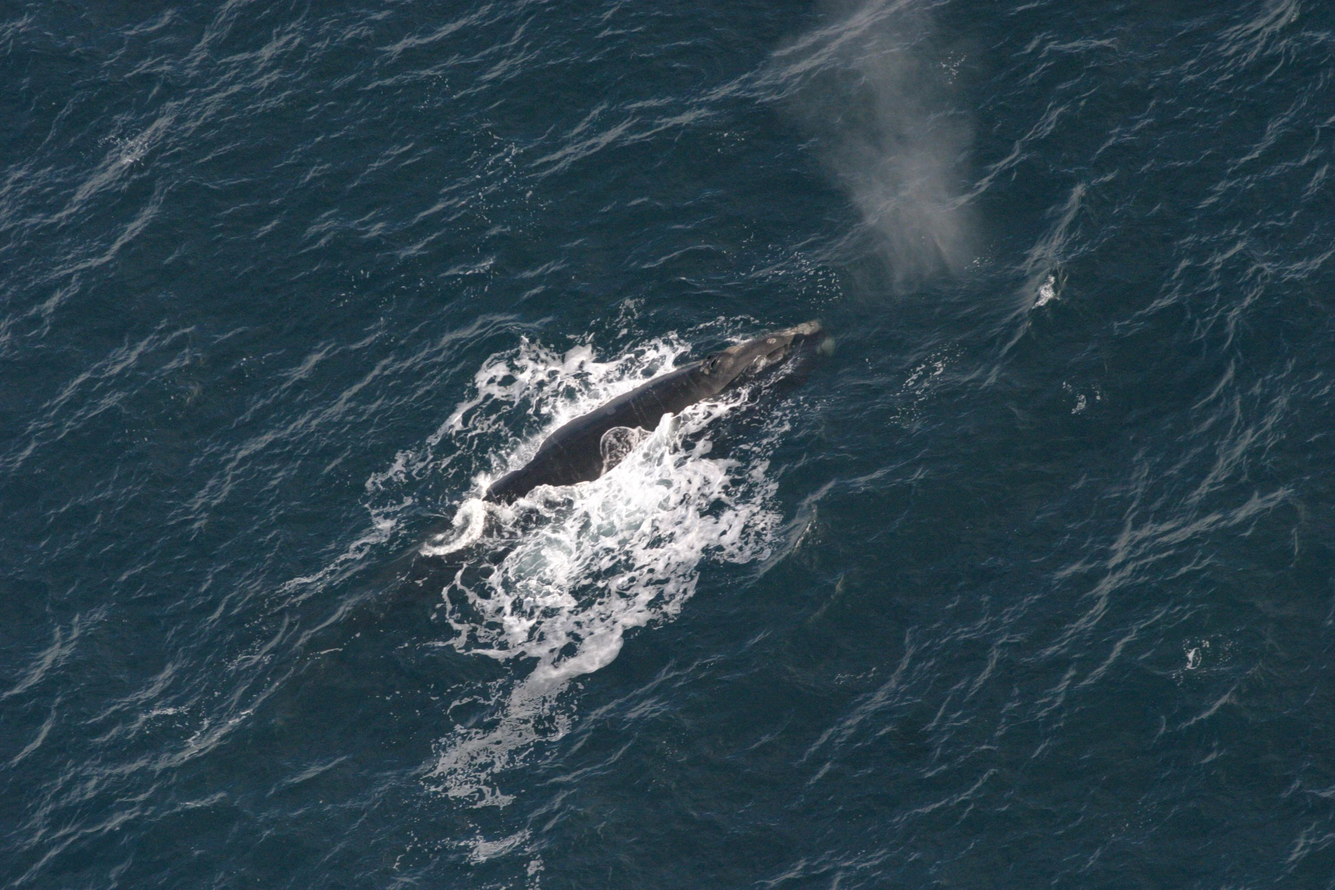whale: (329, 307, 848, 651)
